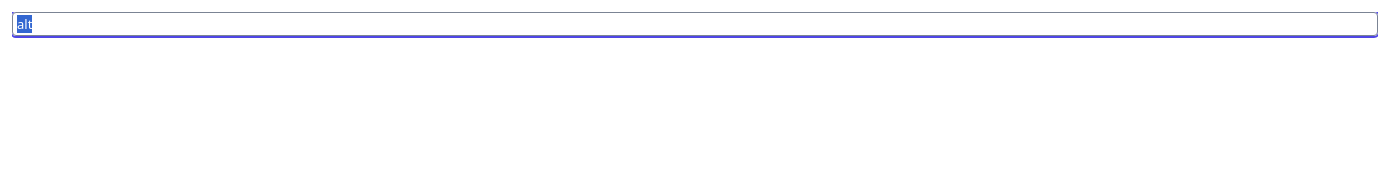
InlineEdit › Fehlschlag: Ablehnung hält Feld, Entwurf und Fokus und zeigt die Meldung
Earlier steps of the test are not shown.
Step 1. Type "x" into the field named "Name" → (695, 24), box x1=12 y1=12 x2=1378 y2=36
Then press Enter
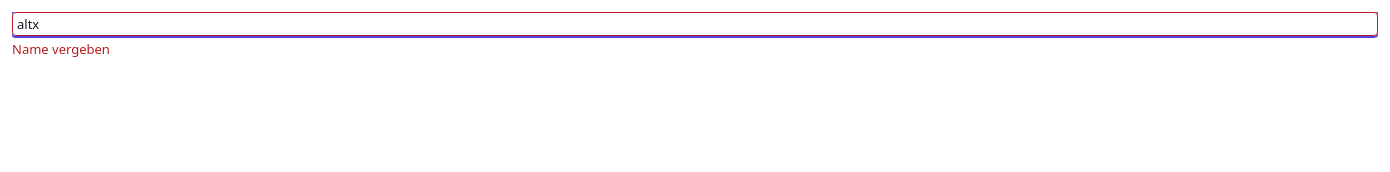
Expected: the field named "Name" holds "altx", x1=12 y1=12 x2=1378 y2=36
